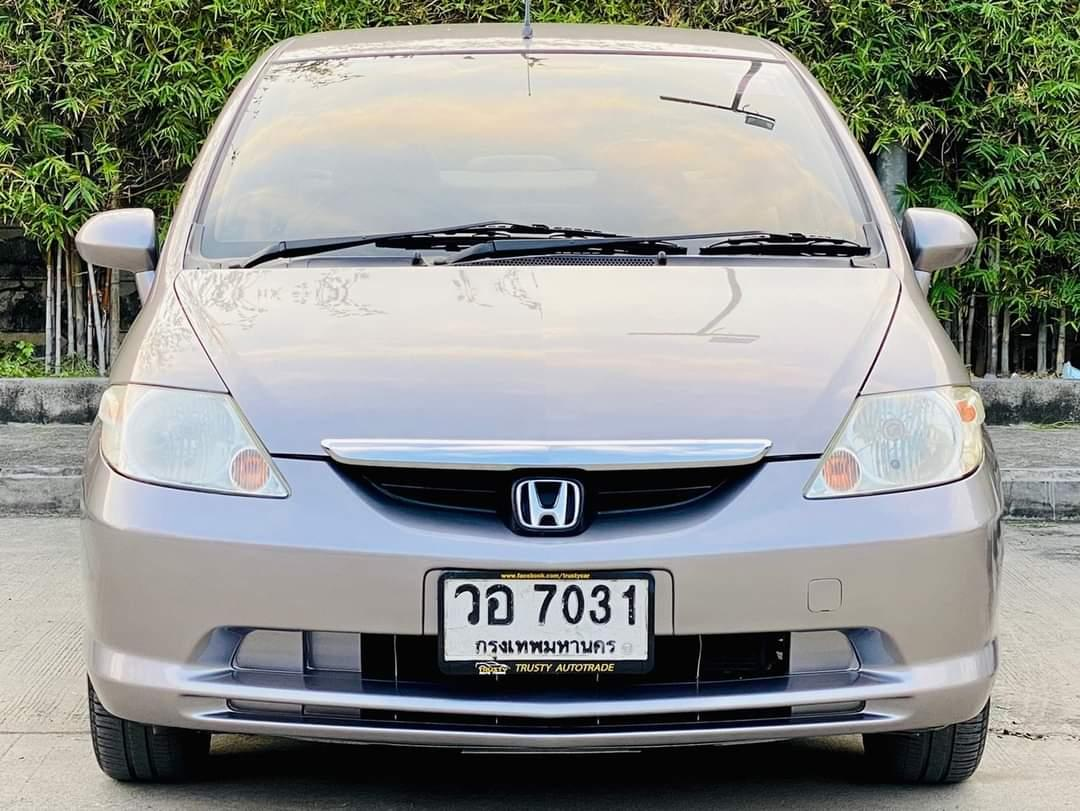license-plate: (436, 566, 656, 679)
